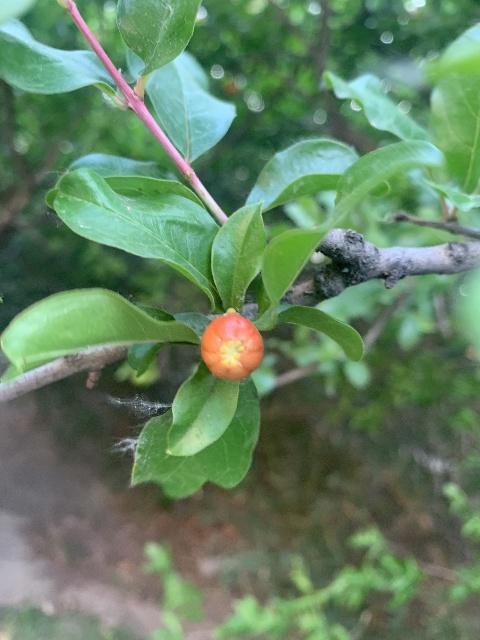bud: (201, 313, 263, 380)
